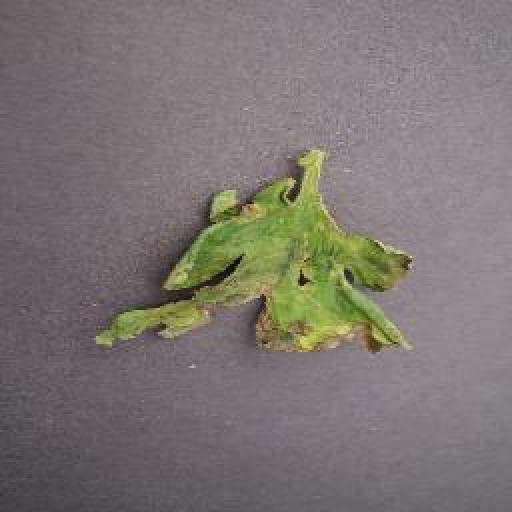disease_tomato: (77, 167, 423, 368)
